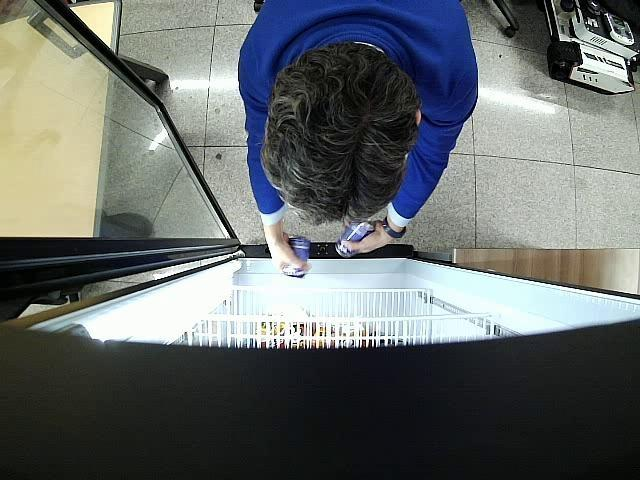14_welchsGrape: (336, 222, 375, 256), (288, 235, 309, 279)
